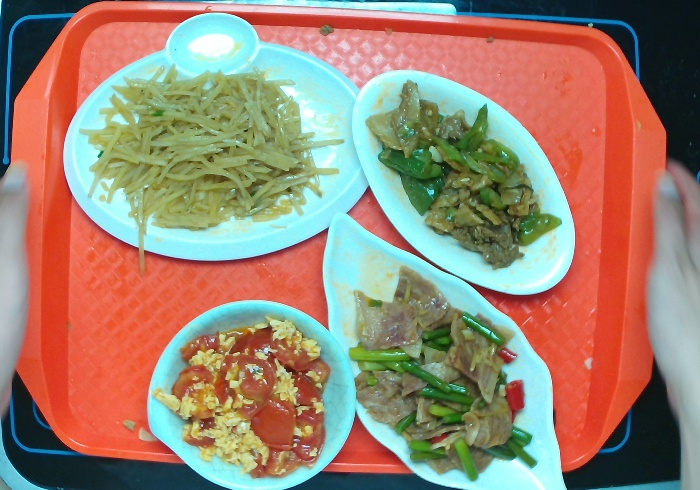RJxy-Bai_Se_Tuo_Yuan: (346, 67, 581, 301)
RJxy-Shu_Ye_Pan: (318, 205, 574, 490)
RJxy-Xiao_Jiao_Yuan_Wan: (144, 290, 360, 490)
RJxy-Zhan_Liao_Pan: (58, 9, 379, 268)
